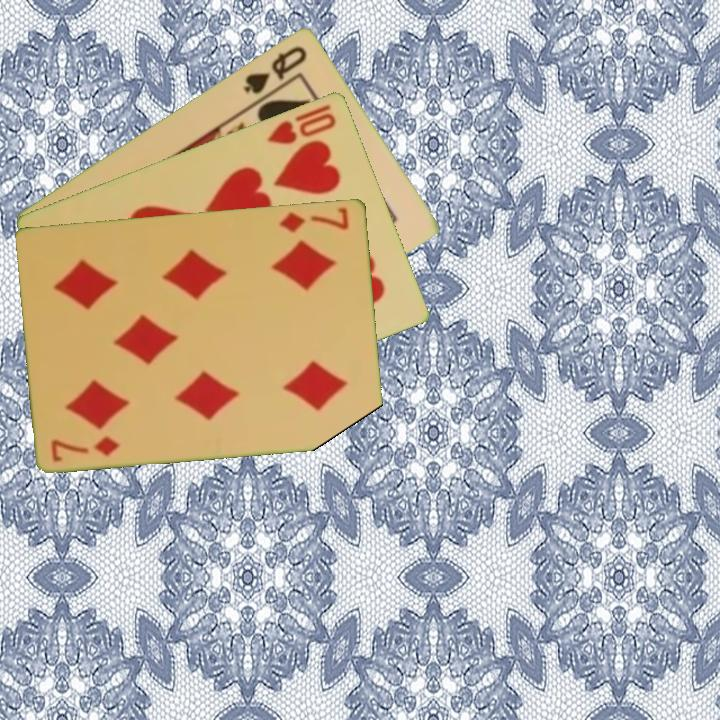10h: (264, 100, 339, 147)
7d: (276, 203, 352, 235), (47, 432, 123, 464)
Qs: (239, 41, 310, 97)
